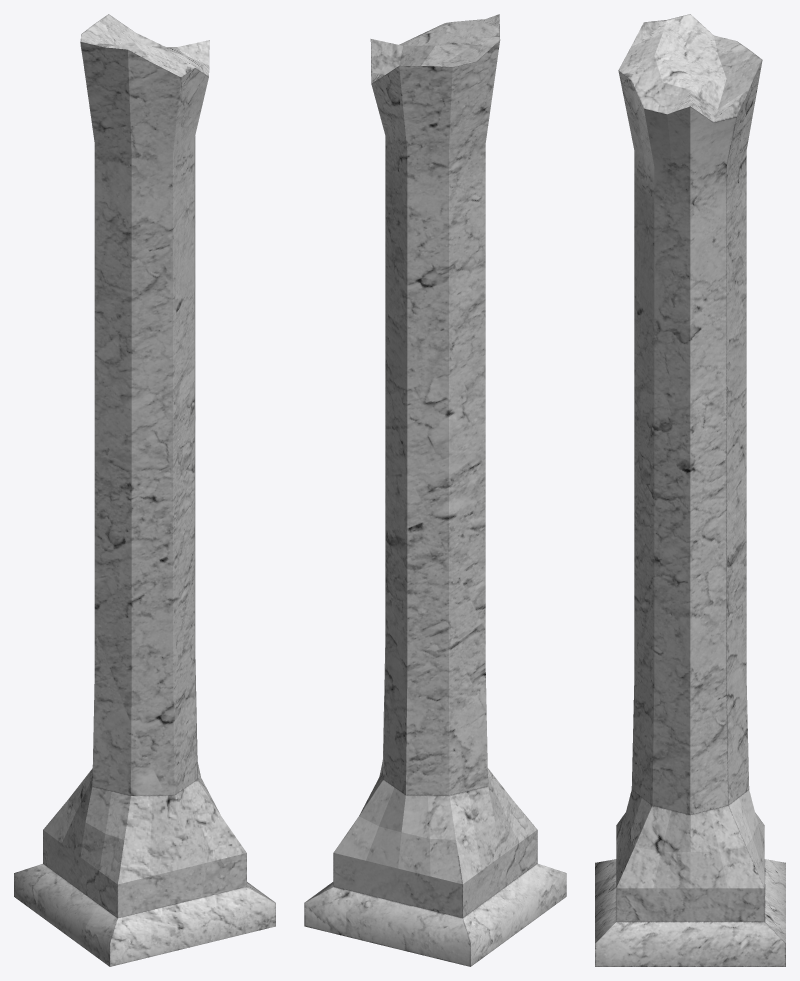
Rendered from col7.fbx.
3 views of the same model, side by side, from view 1: azimuth 30°, elevation 25°; view 2: azimuth 150°, elevation 25°; view 3: azimuth 270°, elevation 25° (orthographic).
Parts seen in each view (by area): view 1: pCube4; view 2: pCube4; view 3: pCube4.
Part boxes in pixels (x1=…): pCube4: x1=14, y1=14, x2=275, y2=966; pCube4: x1=304, y1=14, x2=566, y2=966; pCube4: x1=595, y1=14, x2=785, y2=966.
Size of the model in its own units: 47.99 by 246 by 47.99.
1 material, 1 textured.
